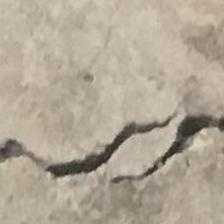Crack: (0, 114, 224, 201)
